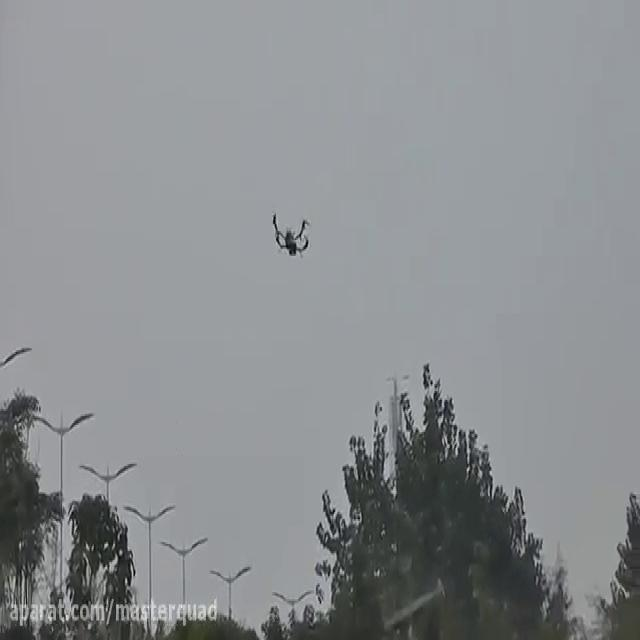drone: (268, 206, 312, 256)
